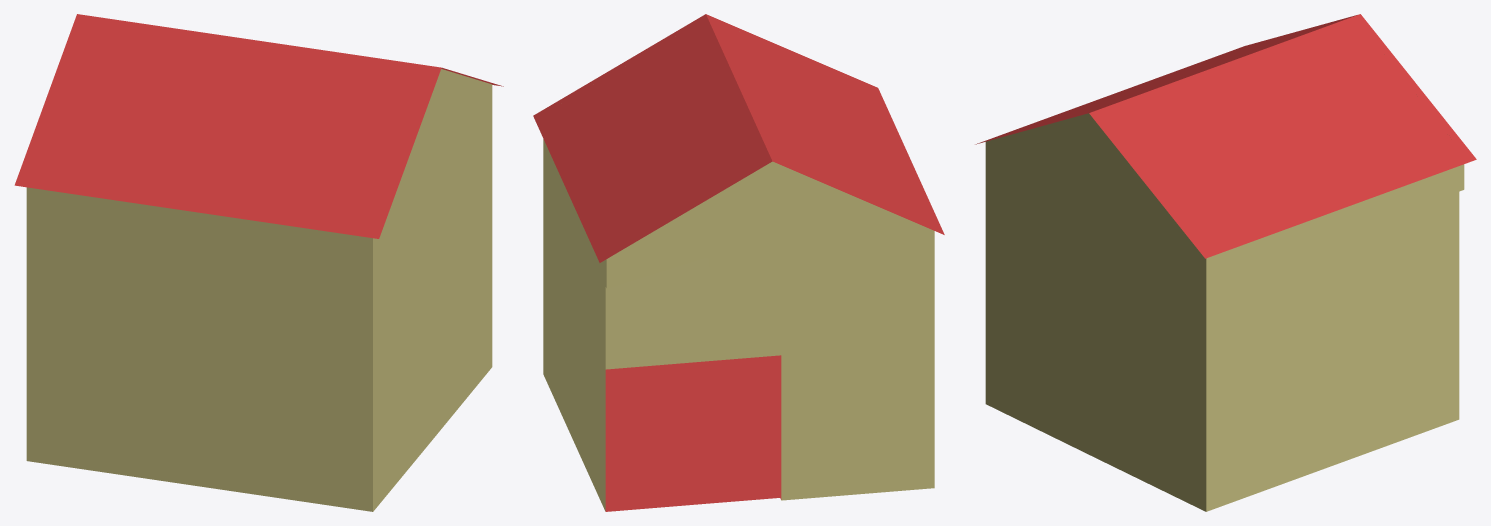
3 renders of one model, left to right at view 1: azimuth 30°, elevation 25°; view 2: azimuth 150°, elevation 25°; view 3: azimuth 270°, elevation 25°, orthographic. The views are drawn at different scales.
Size of the model in its own units: 14.03 by 14.04 by 10.68.
